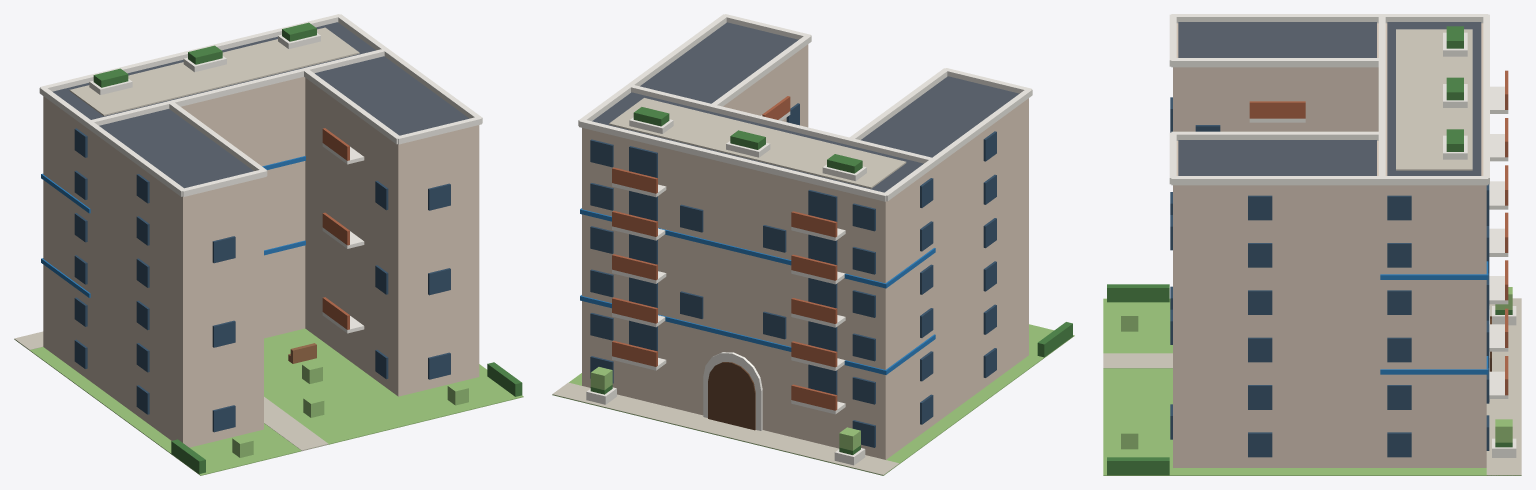
The picture shows the model from 3 angles, left to right: view 1: azimuth 30°, elevation 25°; view 2: azimuth 150°, elevation 25°; view 3: azimuth 270°, elevation 25°; orthographic projection. The views are drawn at different scales.
Visible parts, largest first — view 1: side_wing (×2), front_wing, lawn, roof (×3), parapet (×9), roof_terrace, window_glass (×5), courtyard_path, hedge (×2), string_course (×2); view 2: front_wing, side_wing (×2), window_glass (×24), roof (×3), parapet (×9), balcony_wall (×10), roof_terrace, forecourt, lawn, string_course (×2), entrance_arch, arch_surround (+1 smaller); view 3: side_wing (×2), front_wing, roof (×3), parapet (×8), lawn, roof_terrace, window_glass (×12), forecourt, balcony (×6), hedge (×2), string_course (×2), courtyard_path (+1 smaller).
Boxes of the visible parts, x1,y1,x2,y2 form: side_wing (×2): (90, 78, 479, 447); front_wing: (43, 77, 305, 380); lawn: (14, 328, 523, 475); roof (×3): (52, 22, 468, 188); parapet (×9): (39, 14, 482, 196); roof_terrace: (69, 27, 359, 115); window_glass (×5): (212, 183, 450, 432); courtyard_path: (264, 397, 328, 450); hedge (×2): (171, 362, 522, 473); string_course (×2): (41, 156, 305, 297); front_wing: (582, 128, 933, 459); side_wing (×2): (723, 44, 1028, 424); window_glass (×24): (590, 139, 875, 404); roof (×3): (592, 22, 1019, 192); parapet (×9): (579, 14, 1032, 201); balcony_wall (×10): (612, 167, 837, 410); roof_terrace: (609, 98, 906, 188); forecourt: (552, 382, 899, 475); lawn: (552, 324, 1074, 475); string_course (×2): (580, 208, 935, 374); entrance_arch: (708, 362, 755, 430); arch_surround: (703, 352, 762, 430); side_wing (×2): (1173, 23, 1382, 467); front_wing: (1382, 23, 1486, 467); roof (×3): (1178, 22, 1481, 175); parapet (×8): (1171, 14, 1489, 185); lawn: (1103, 298, 1521, 475); roof_terrace: (1396, 29, 1472, 170); window_glass (×12): (1248, 195, 1411, 457); forecourt: (1486, 298, 1521, 475); balcony (×6): (1489, 134, 1508, 398); hedge (×2): (1107, 284, 1169, 475); string_course (×2): (1380, 261, 1488, 374); courtyard_path: (1103, 353, 1172, 368).
Size of the model in its own units: 24 by 19.17 by 24.
